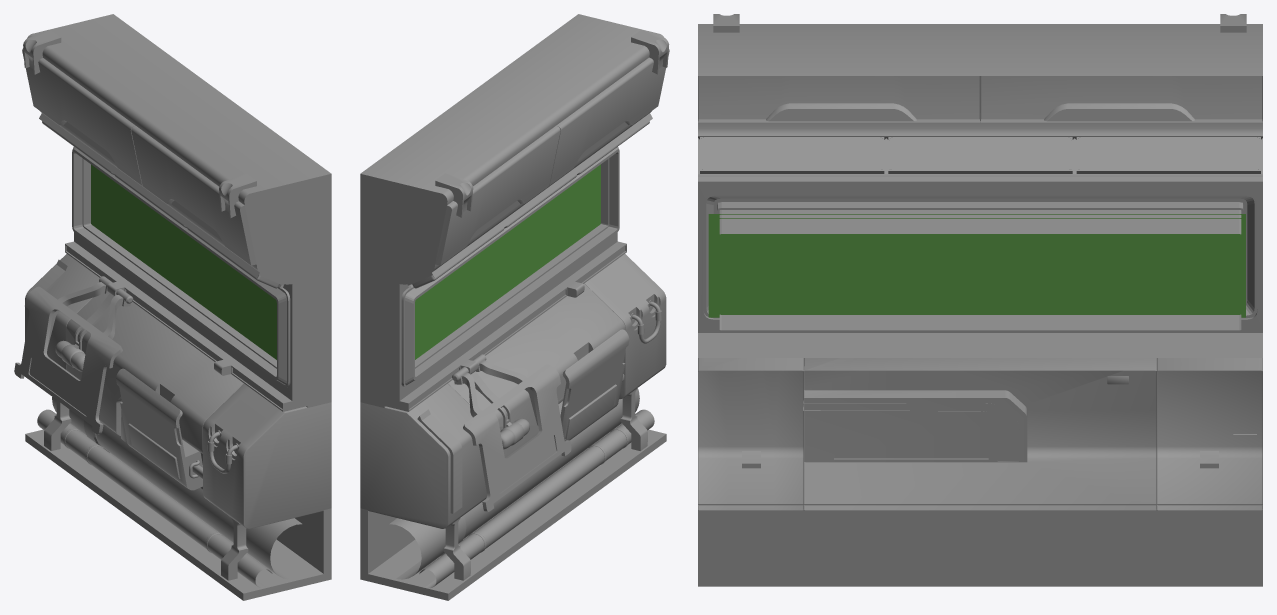
Rendered from SM_window_2.FBX.
The picture shows the model from 3 angles, left to right: view 1: azimuth 30°, elevation 25°; view 2: azimuth 150°, elevation 25°; view 3: azimuth 270°, elevation 25°; orthographic projection. The views are drawn at different scales.
Parts seen in each view (by area): view 1: window_low001; view 2: window_low001; view 3: window_low001.
Part boxes in pixels (x1,y1,x2,y2): window_low001: [14, 14, 331, 600]; window_low001: [360, 14, 669, 600]; window_low001: [698, 14, 1262, 586].
Bounding box in the file's own units: 0.9009 × 3.12 × 3.
